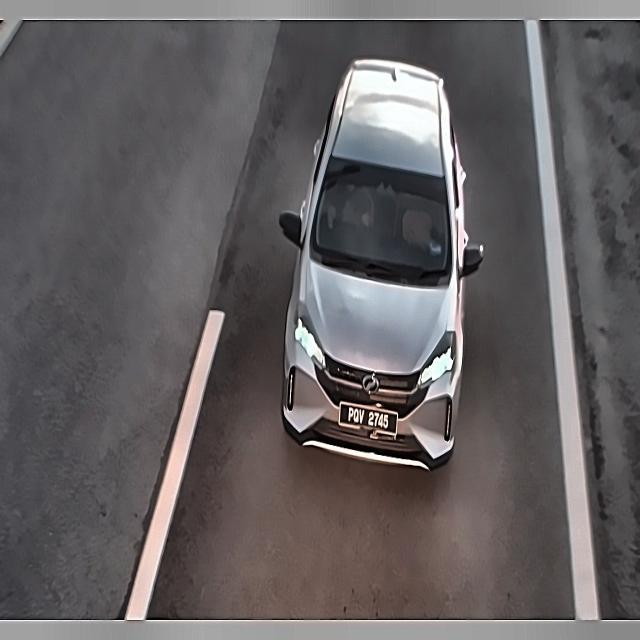car: (336, 398, 402, 443)
